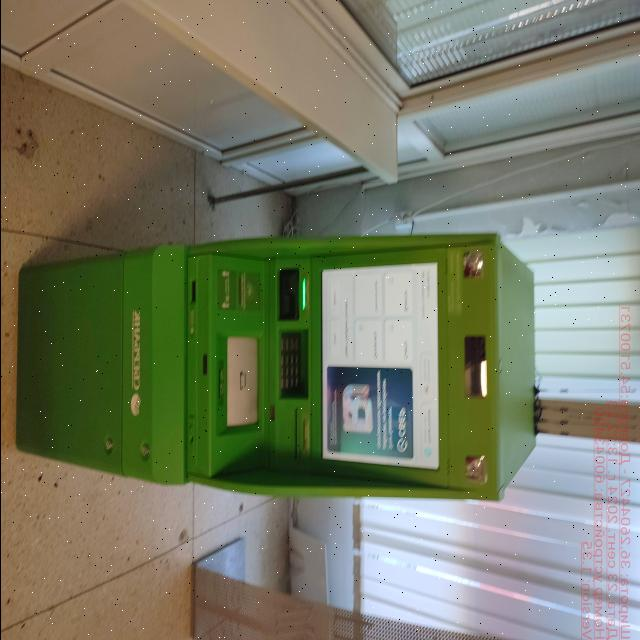bank: (15, 226, 538, 504)
